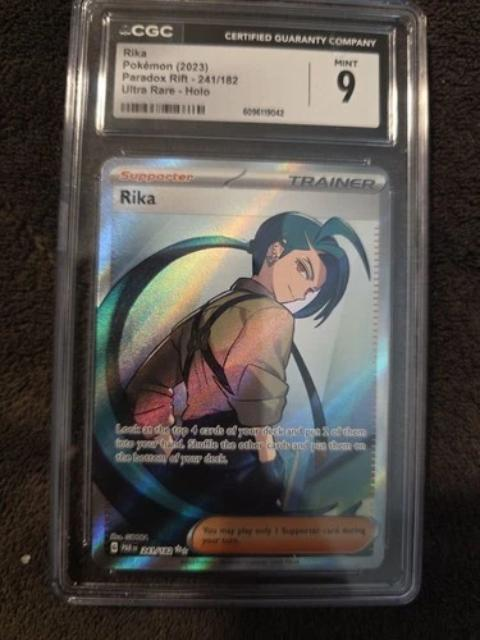Card: (86, 153, 394, 575)
Name: (115, 184, 161, 212)
